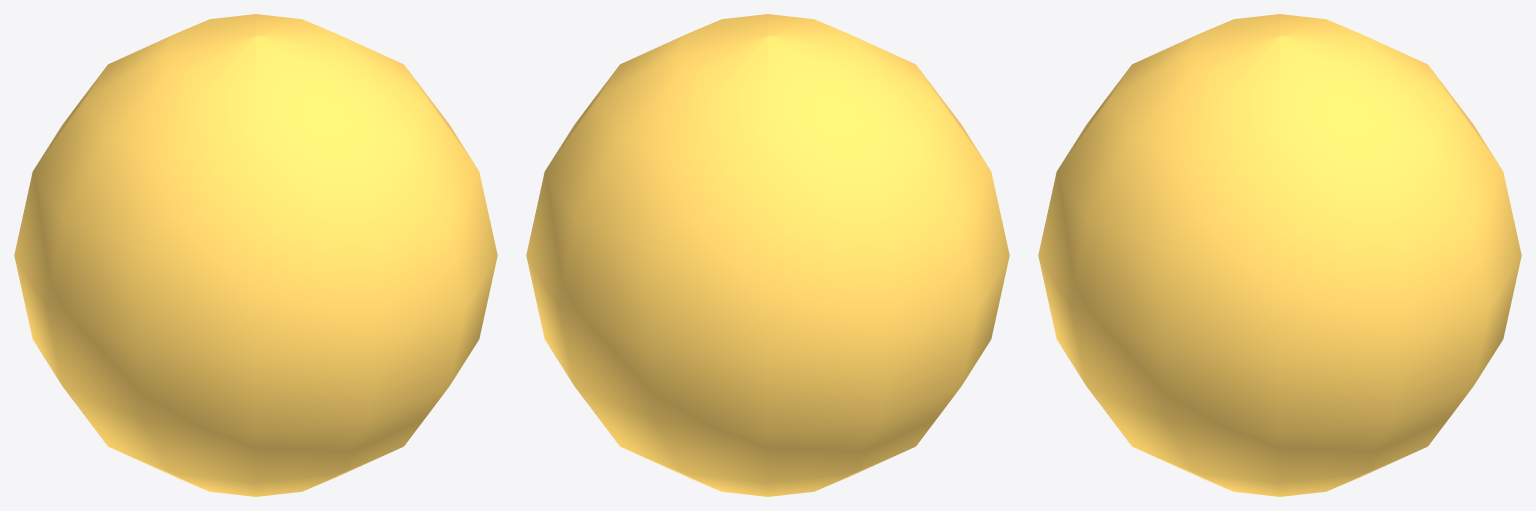
File: revive_spark.glb
3 views of the same model, side by side, from view 1: azimuth 30°, elevation 25°; view 2: azimuth 150°, elevation 25°; view 3: azimuth 270°, elevation 25° (orthographic).
Visible parts, largest first — view 1: effect; view 2: effect; view 3: effect.
Part boxes in pixels (left/top/right/bottom): effect: left=14, top=14, right=497, bottom=496; effect: left=526, top=14, right=1009, bottom=496; effect: left=1038, top=14, right=1521, bottom=496.
Bounding box in the file's own units: 2 × 2 × 2.
